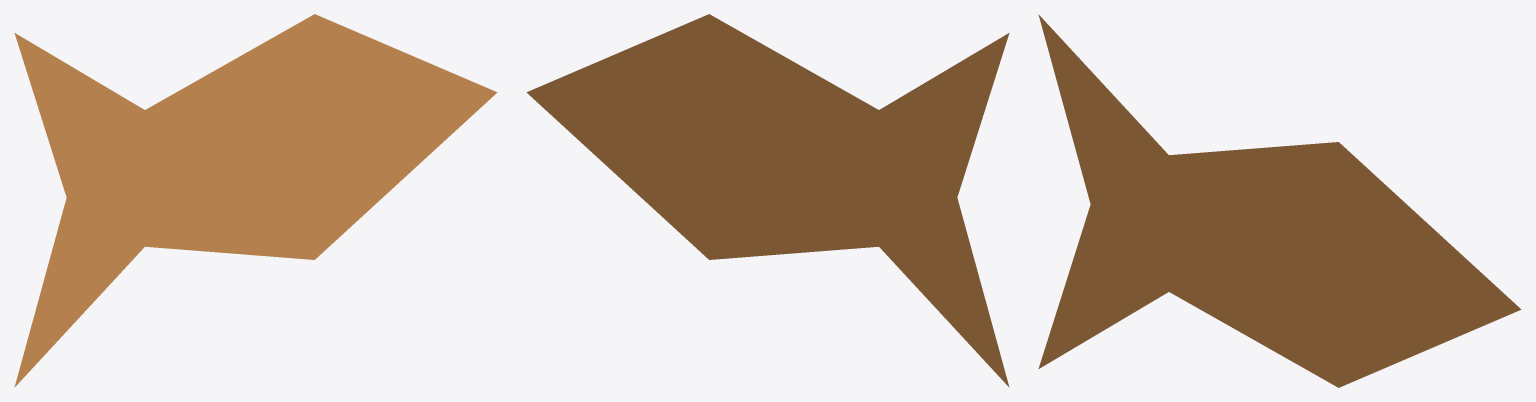
Rendered from koi-sensei-placeholder.glb.
3 renders of one model, left to right at view 1: azimuth 30°, elevation 25°; view 2: azimuth 150°, elevation 25°; view 3: azimuth 330°, elevation 25°, orthographic.
Visible parts, largest first — view 1: KoiBody; view 2: KoiBody; view 3: KoiBody.
Boxes of the visible parts, x1,y1,x2,y2 form: KoiBody: (14,14,497,387); KoiBody: (526,14,1009,387); KoiBody: (1038,14,1521,387).
Size of the model in its own units: 1.85 by 1.3 by 0.
